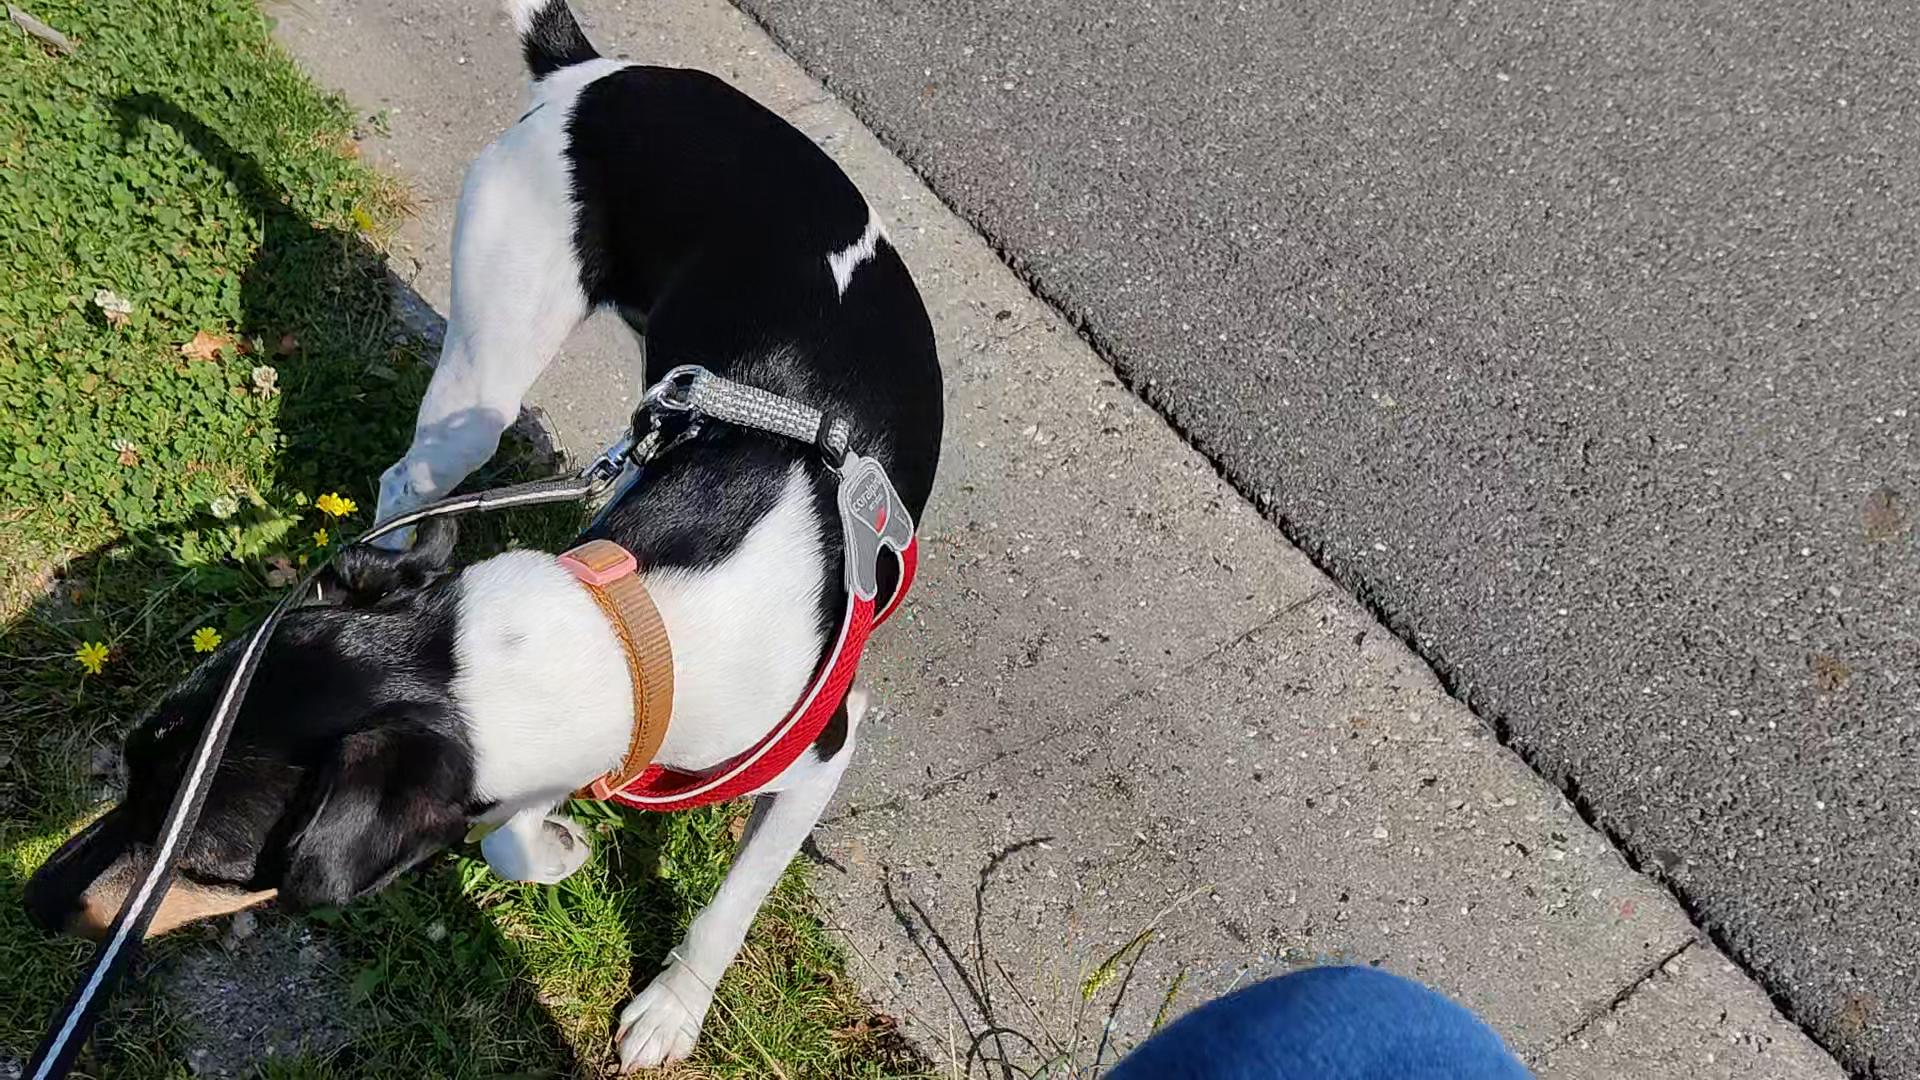Dog: (12, 0, 945, 1079)
